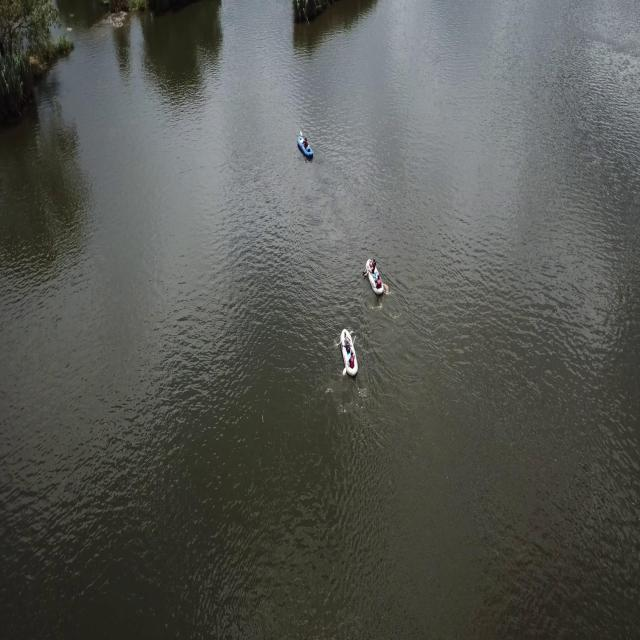kayak: (336, 323, 362, 386), (361, 253, 388, 300), (296, 132, 316, 164)
